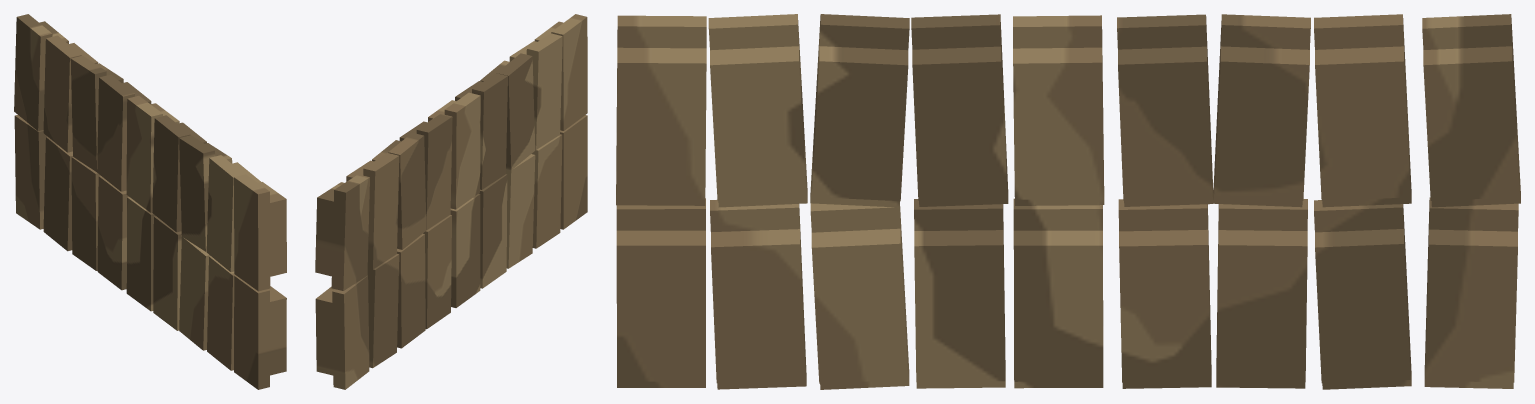
Rendered from SM_Veh_Attach_Tank_Armour_08.fbx.
The picture shows the model from 3 angles, left to right: view 1: azimuth 30°, elevation 25°; view 2: azimuth 150°, elevation 25°; view 3: azimuth 270°, elevation 25°; orthographic projection. The views are drawn at different scales.
Parts seen in each view (by area): view 1: SM_Veh_Attach_Tank_Armour_08; view 2: SM_Veh_Attach_Tank_Armour_08; view 3: SM_Veh_Attach_Tank_Armour_08.
Part boxes in pixels (x1=…): SM_Veh_Attach_Tank_Armour_08: x1=14, y1=14, x2=286, y2=389; SM_Veh_Attach_Tank_Armour_08: x1=315, y1=14, x2=587, y2=389; SM_Veh_Attach_Tank_Armour_08: x1=616, y1=14, x2=1520, y2=389.
Bounding box in the file's own units: 11.1 × 73.26 × 164.
